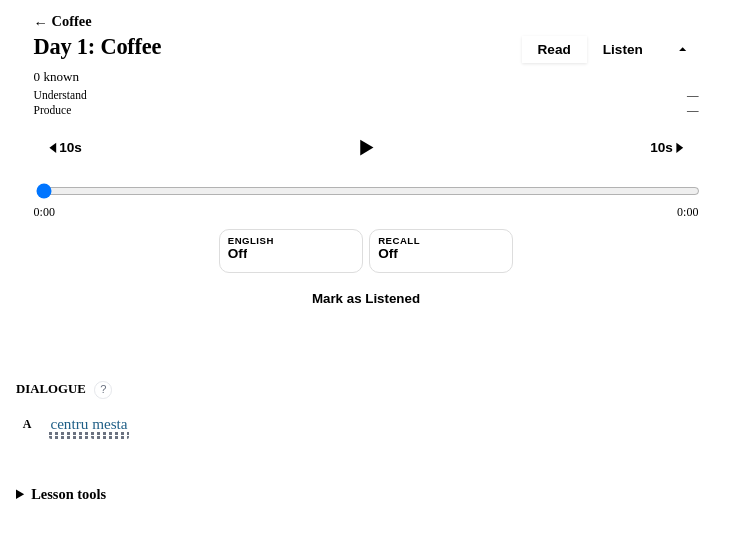
/c/[curriculumId]/l/[lessonId] page › handleCreatePhrase › sets error to String(e) when createSRSItem throws a non-Error
The image size is (733, 558).
Press the mouse on the button "centru" at (69, 427), box [49, 415, 89, 439]
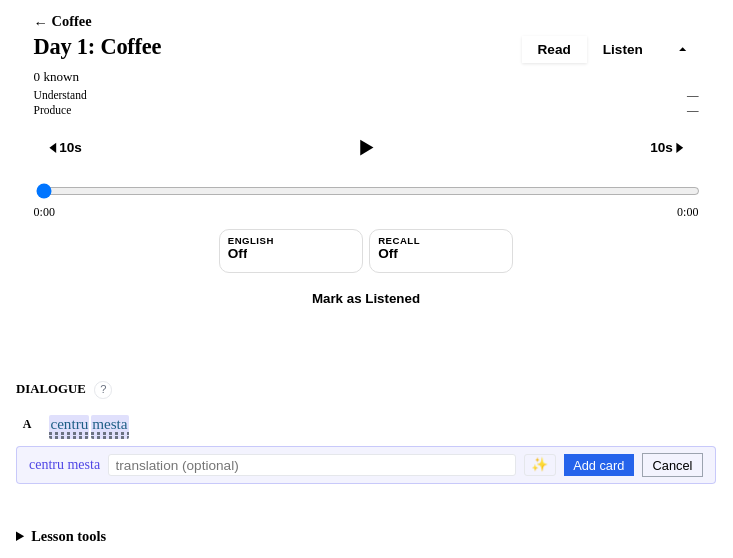
Click the button with class "confirm-create" at (599, 465), box [564, 454, 634, 476]
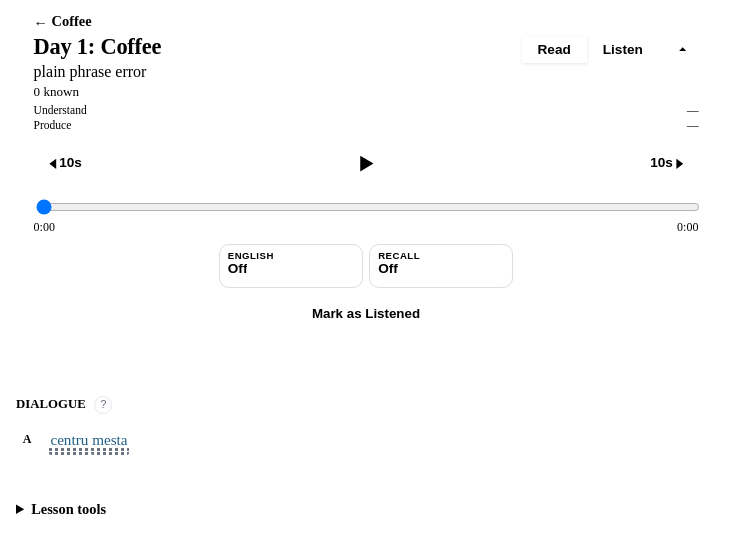
Now the text "plain phrase error" is shown, box [34, 63, 146, 80]
